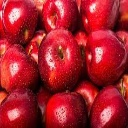apple: (89, 85, 128, 128)
